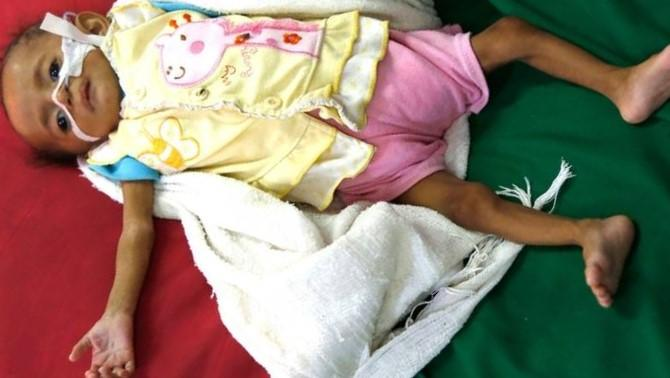Stunting: (0, 2, 138, 179)
